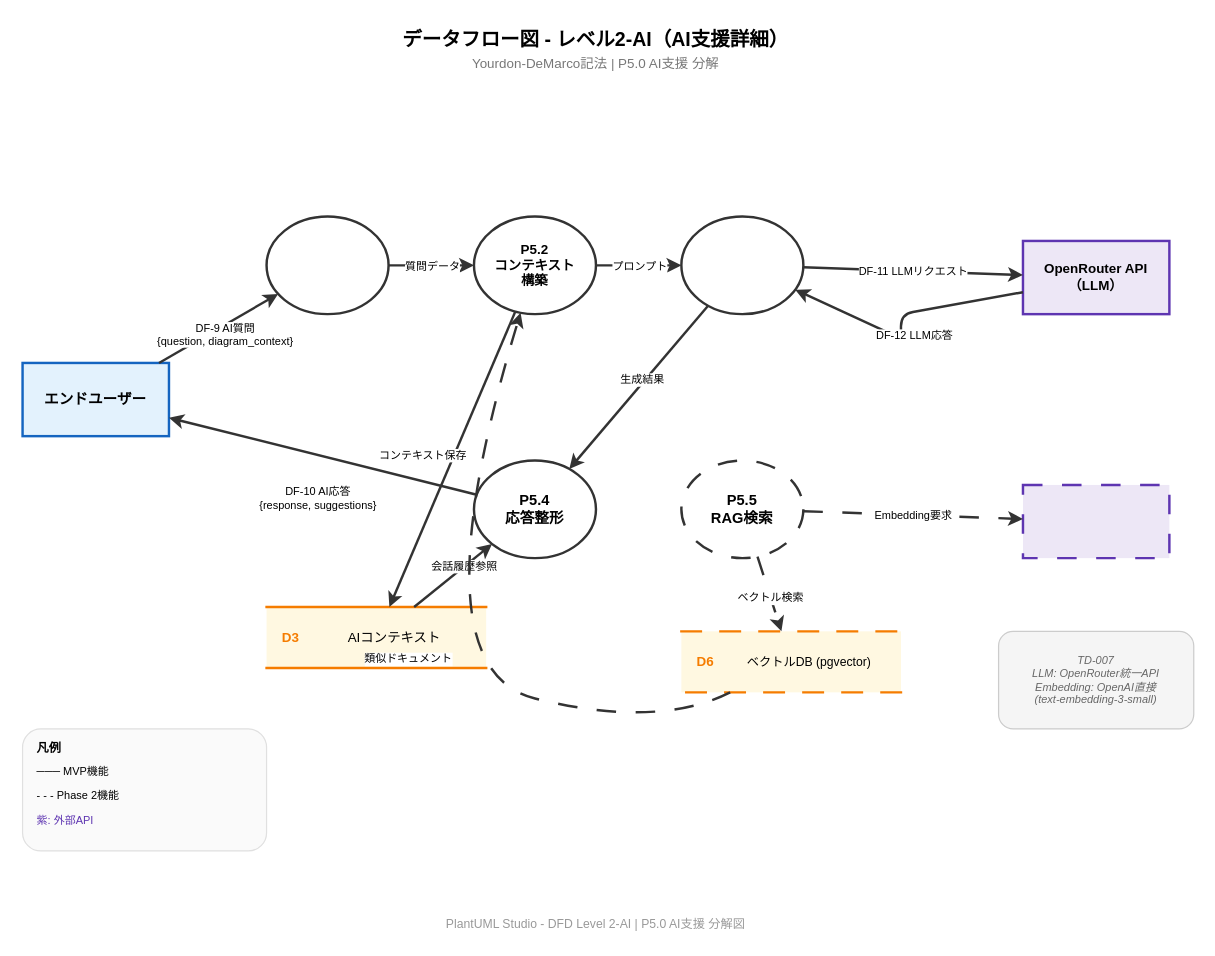
This 1215x956 diagram has some shape labels left out. Here are the shapes that lost their labels. From the top down, the centre of each, then its label:
[327,265]: P5.1 質問受付
[742,265]: P5.3 LLM 問い合わせ
[1095,521]: OpenAI API （Embedding）
